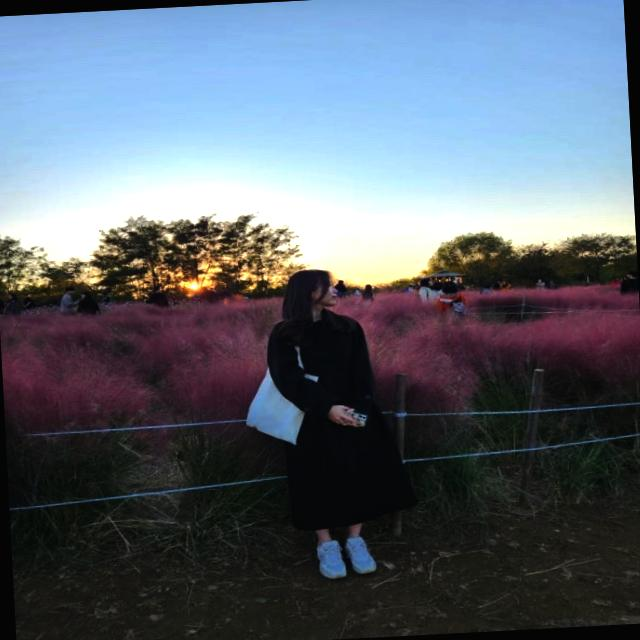coat: (266, 306, 418, 534)
